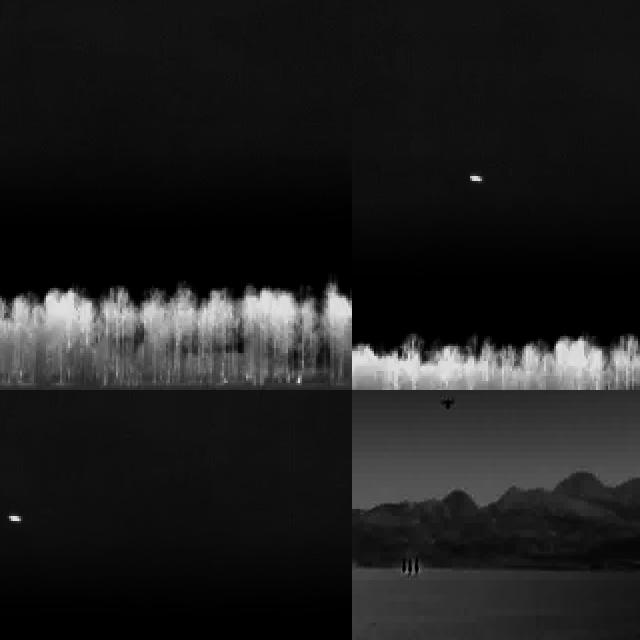1: (0, 506, 36, 536), (465, 171, 495, 191)
drone: (439, 390, 457, 416)
